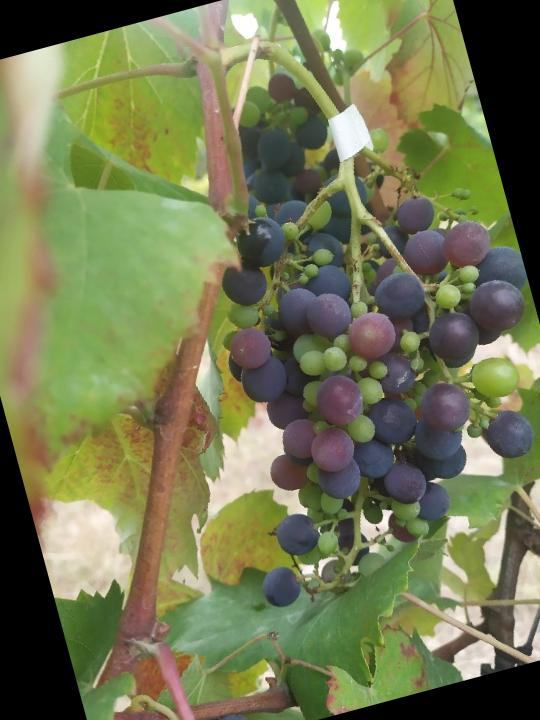grape: (160, 133, 540, 616)
